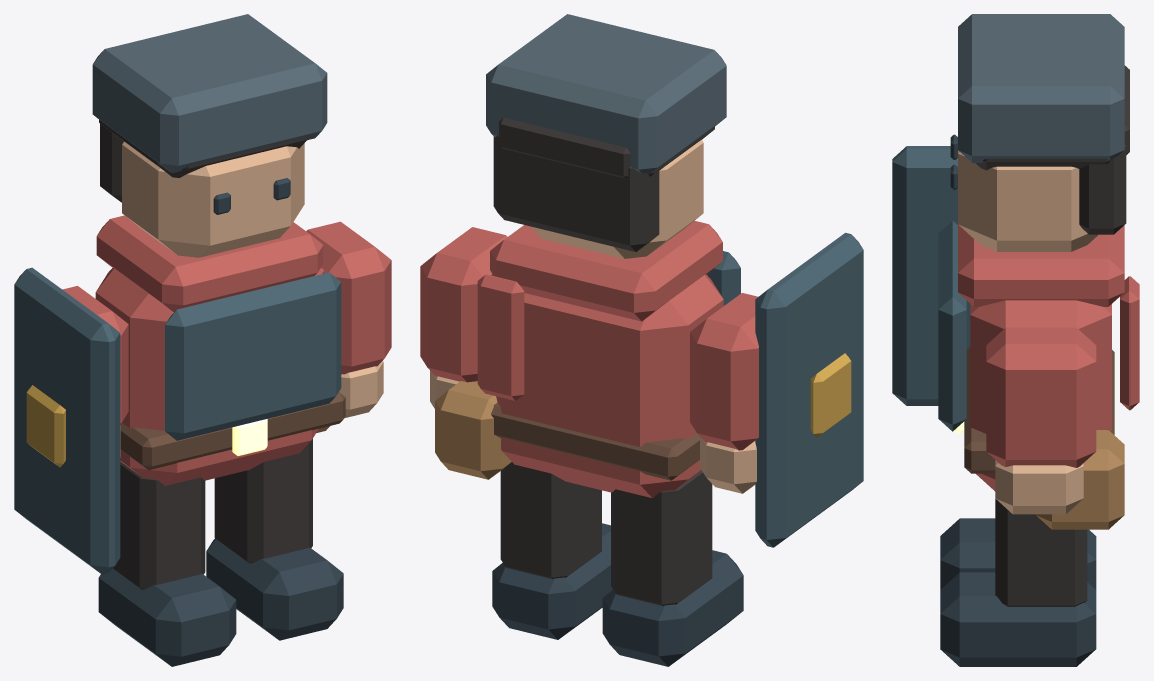
The model's file is person-guard.glb.
3 renders of one model, left to right at view 1: azimuth 30°, elevation 25°; view 2: azimuth 150°, elevation 25°; view 3: azimuth 270°, elevation 25°, orthographic. The views are drawn at different scales.
Parts seen in each view (by area): view 1: helmet, shield, breastplate, head.007, scarf.007, tunic.007, boot.014, boot.015, leg.014, leg.015, sleeve.015, belt.007 (+6 smaller); view 2: tunic.007, shield, helmet, scarf.007, hair-back.007, leg.014, leg.015, sleeve.014, boot.014, sleeve.015, boot.015, belt.007 (+7 smaller); view 3: helmet, sleeve.015, shield, boot.015, head.007, scarf.007, leg.015, tunic.007, breastplate, satchel.007, hand.015, boot.014 (+4 smaller).
Part boxes in pixels (left/top/right/bottom): helmet: left=92, top=14, right=327, bottom=172; shield: left=14, top=267, right=120, bottom=574; breastplate: left=165, top=272, right=341, bottom=440; head.007: left=122, top=141, right=304, bottom=257; scarf.007: left=96, top=215, right=323, bottom=312; tunic.007: left=95, top=268, right=324, bottom=485; boot.014: left=98, top=568, right=236, bottom=666; boot.015: left=206, top=538, right=343, bottom=640; leg.014: left=113, top=461, right=205, bottom=589; leg.015: left=214, top=439, right=312, bottom=563; sleeve.015: left=306, top=221, right=391, bottom=374; belt.007: left=120, top=392, right=345, bottom=470; tunic.007: left=491, top=274, right=723, bottom=498; shield: left=755, top=232, right=863, bottom=547; helmet: left=486, top=14, right=726, bottom=174; scarf.007: left=490, top=220, right=722, bottom=321; hair-back.007: left=493, top=134, right=659, bottom=251; leg.014: left=611, top=470, right=712, bottom=605; leg.015: left=500, top=462, right=601, bottom=579; sleeve.014: left=690, top=293, right=758, bottom=450; boot.014: left=602, top=550, right=743, bottom=666; sleeve.015: left=420, top=227, right=507, bottom=382; boot.015: left=492, top=523, right=612, bottom=639; belt.007: left=491, top=402, right=699, bottom=480; helmet: left=958, top=14, right=1124, bottom=162; sleeve.015: left=986, top=327, right=1096, bottom=467; shield: left=892, top=146, right=970, bottom=405; boot.015: left=940, top=572, right=1096, bottom=666; head.007: left=958, top=150, right=1098, bottom=251; scarf.007: left=958, top=224, right=1124, bottom=306; leg.015: left=995, top=499, right=1087, bottom=606; tunic.007: left=970, top=300, right=1111, bottom=491; breastplate: left=938, top=220, right=966, bottom=431; satchel.007: left=1036, top=430, right=1124, bottom=529; hand.015: left=995, top=460, right=1083, bottom=514; boot.014: left=940, top=518, right=1096, bottom=589.
Size of the model in its own units: 1.21 by 1.8 by 0.6975.
